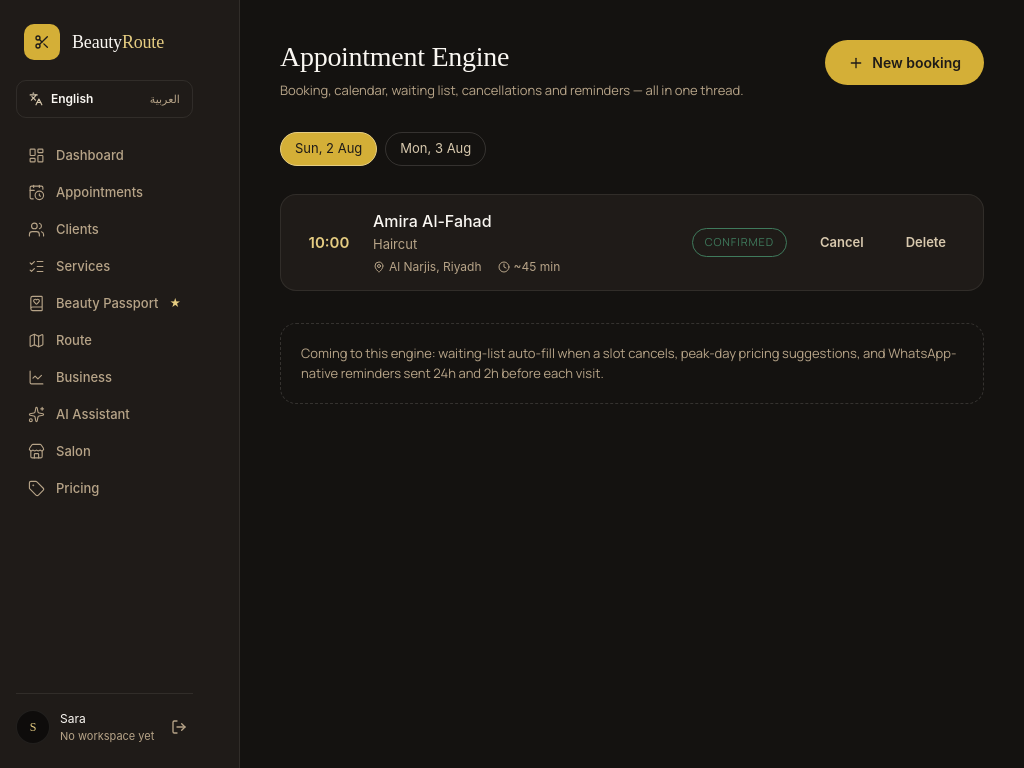
Appointments page › REGRESSION (Phase 13 Step 4): memoizing dayAppts does not change which appointments show for each day -- switching days still filters correctly
The width and height of the screenshot is (1024, 768).
Expected: the text "Amira Al-Fahad" is shown, [373,211,492,231]
Expected: the text "Bayan Saleh" is not shown
Click the button "Mon, 3 Aug".
click(436, 149)  # box [385,132,486,166]
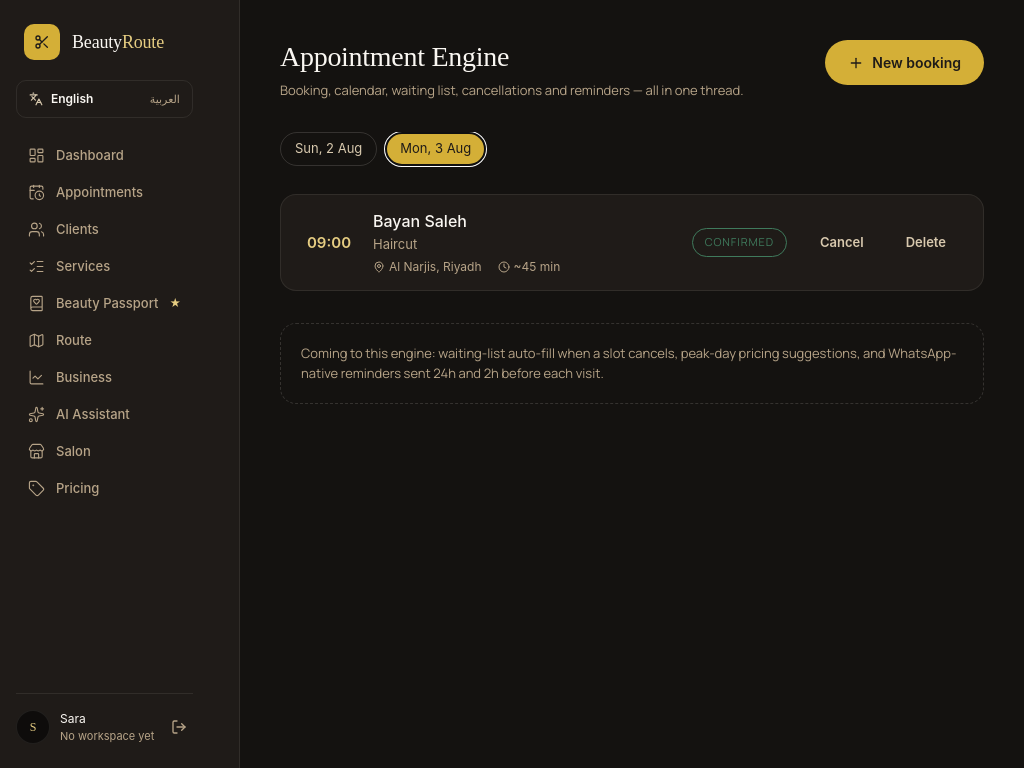
Now the text "Bayan Saleh" is shown, box [373,211,467,231]
Now the button "Amira Al-Fahad" is gone
